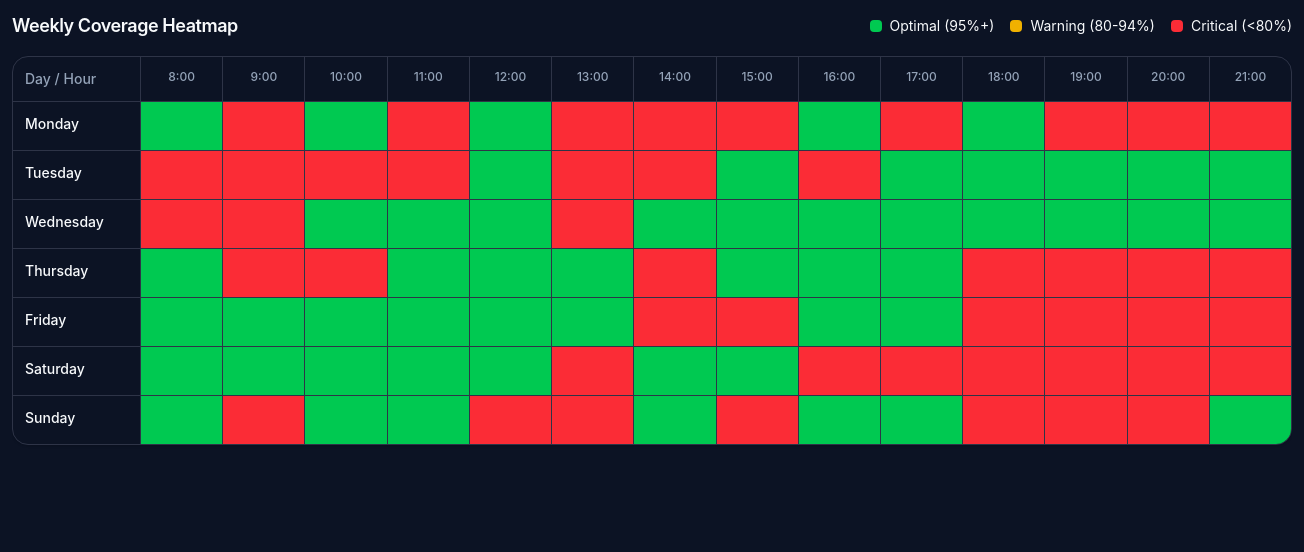
Test case: CoverageHeatmap Interactivity and Rendering › handles click interactions on cells to show modal/details
// Click the first cell
Click the element with class "group" at (182, 126), box [141, 102, 223, 150]
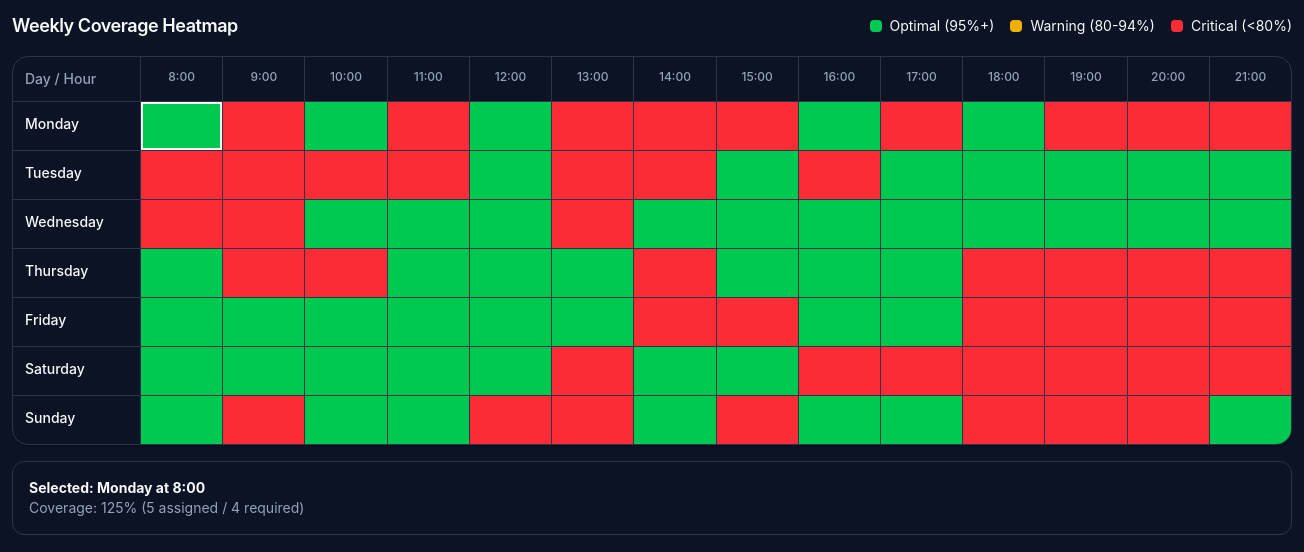
Check: the text "Selected: Monday at 8:00" is shown, box [29, 479, 205, 496]
Check: the text "Coverage: 125% (5 assigned / 4 required)" is shown, box [29, 499, 304, 516]
